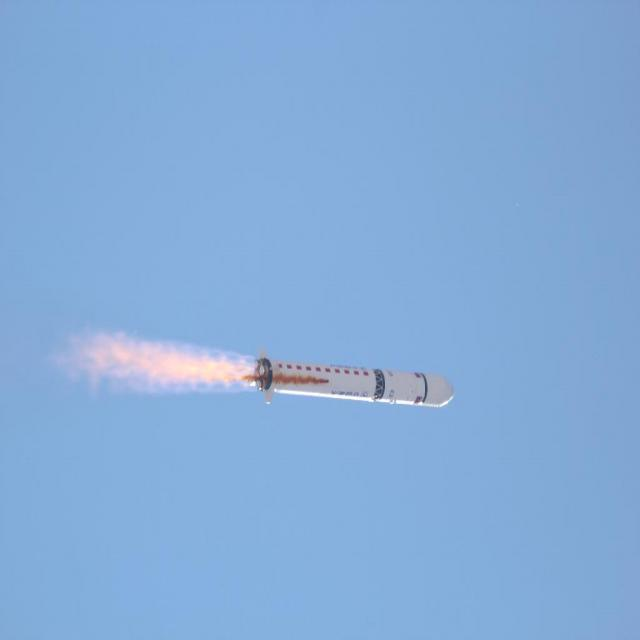missile: (242, 344, 457, 408)
